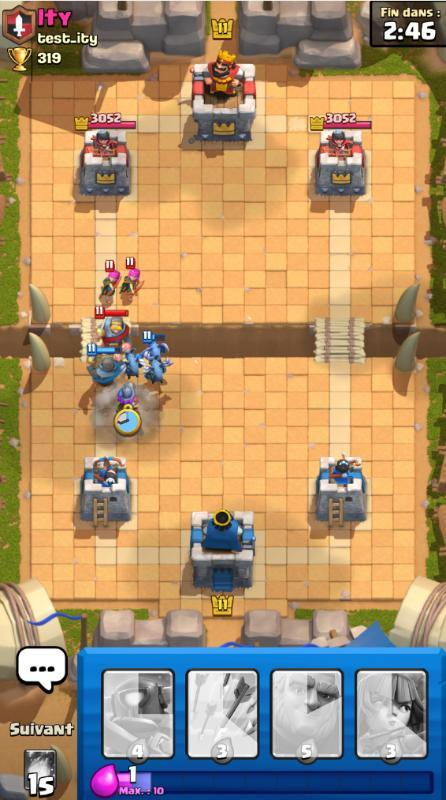archere: (119, 256, 145, 302), (98, 260, 121, 304)
chevalier: (94, 306, 132, 356), (86, 343, 122, 392)
gargouille: (140, 330, 170, 363), (143, 354, 174, 384), (120, 348, 146, 379)
mousquetaire: (117, 381, 140, 413)
